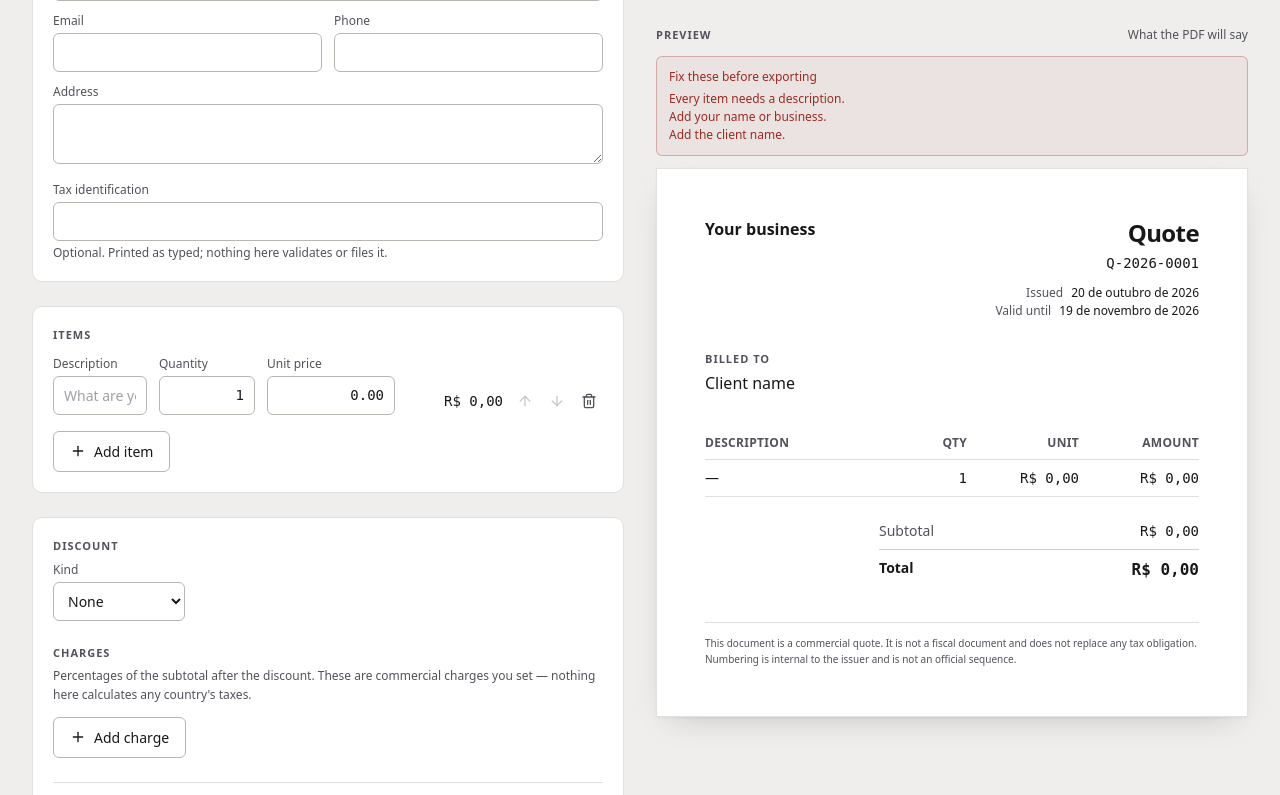
Test: the editor › applies a percentage discount to the total
(page scrolled)
Replace the text in the field labelled "Unit price" with "200": (331, 395) [267,376,395,414]
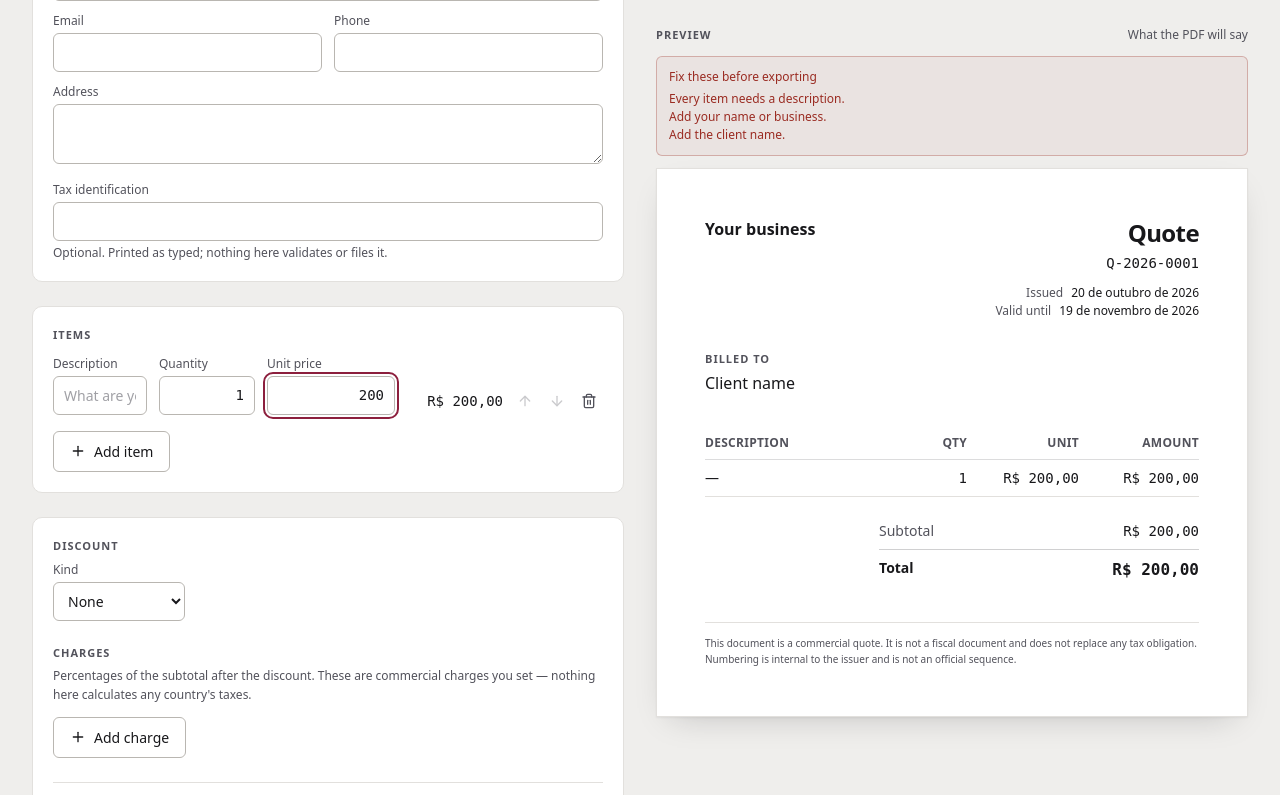
Select "Percentage" in the dropdown labelled "Kind": (119, 602) [53,582,185,621]
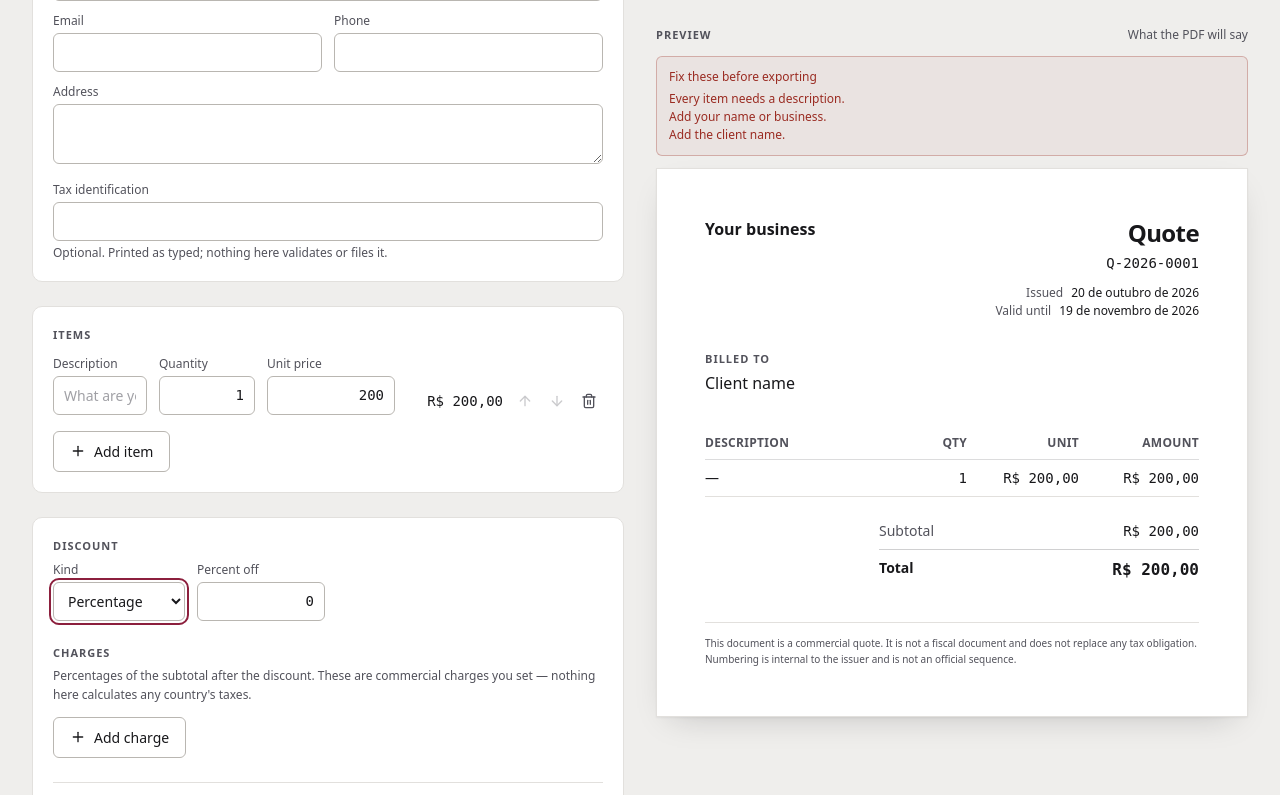
Replace the text in the field labelled "Percent off" with "10": (261, 602) [197,582,325,621]
(page scrolled)
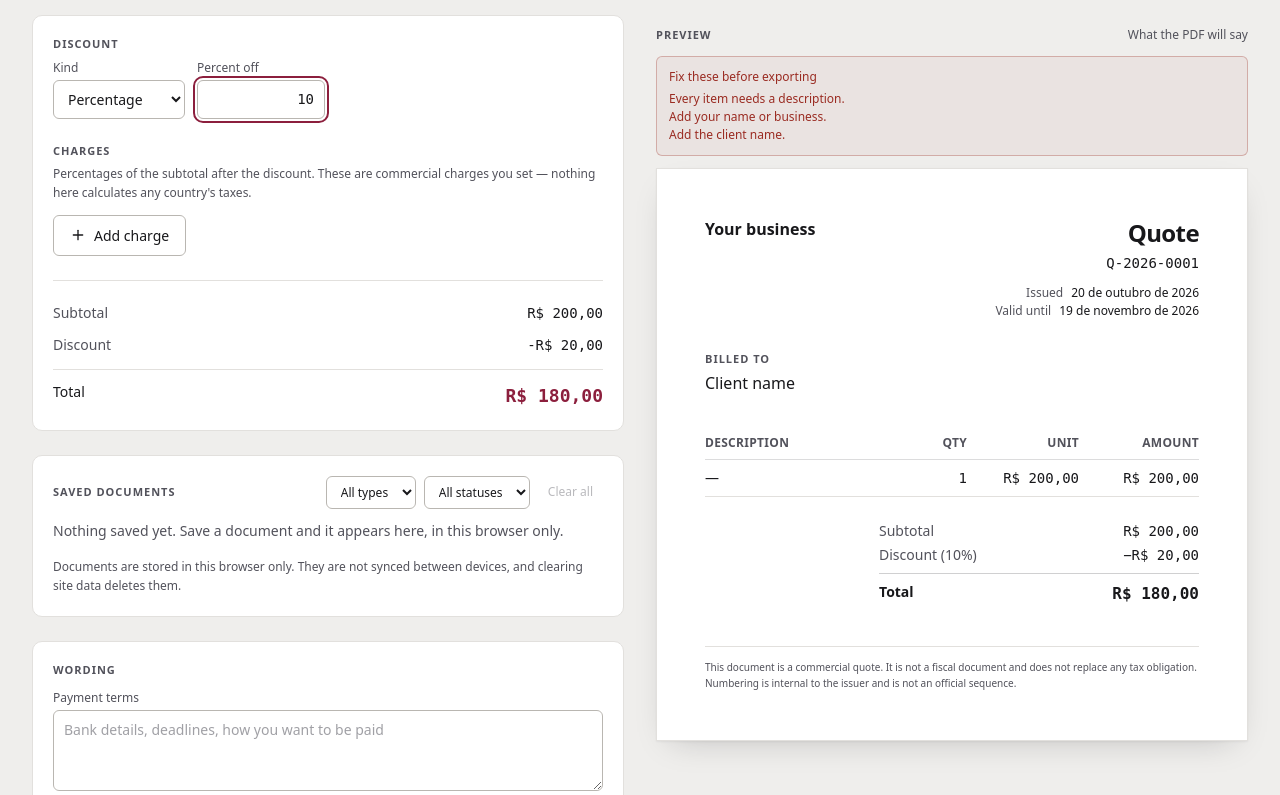
Now the text "R$ 180,00" below "-R$ 20,00" is shown, box [506,384,603,406]
